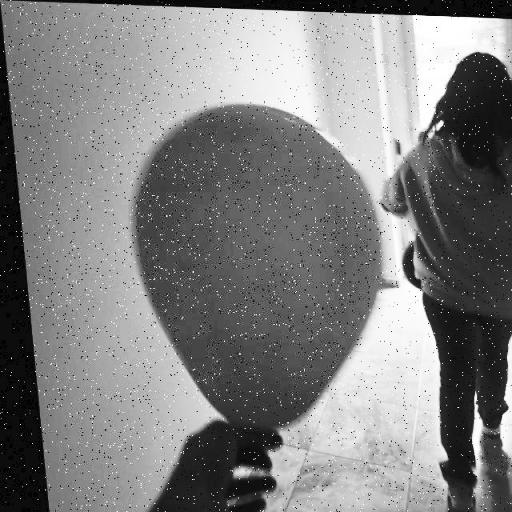balloon: (116, 98, 390, 432)
